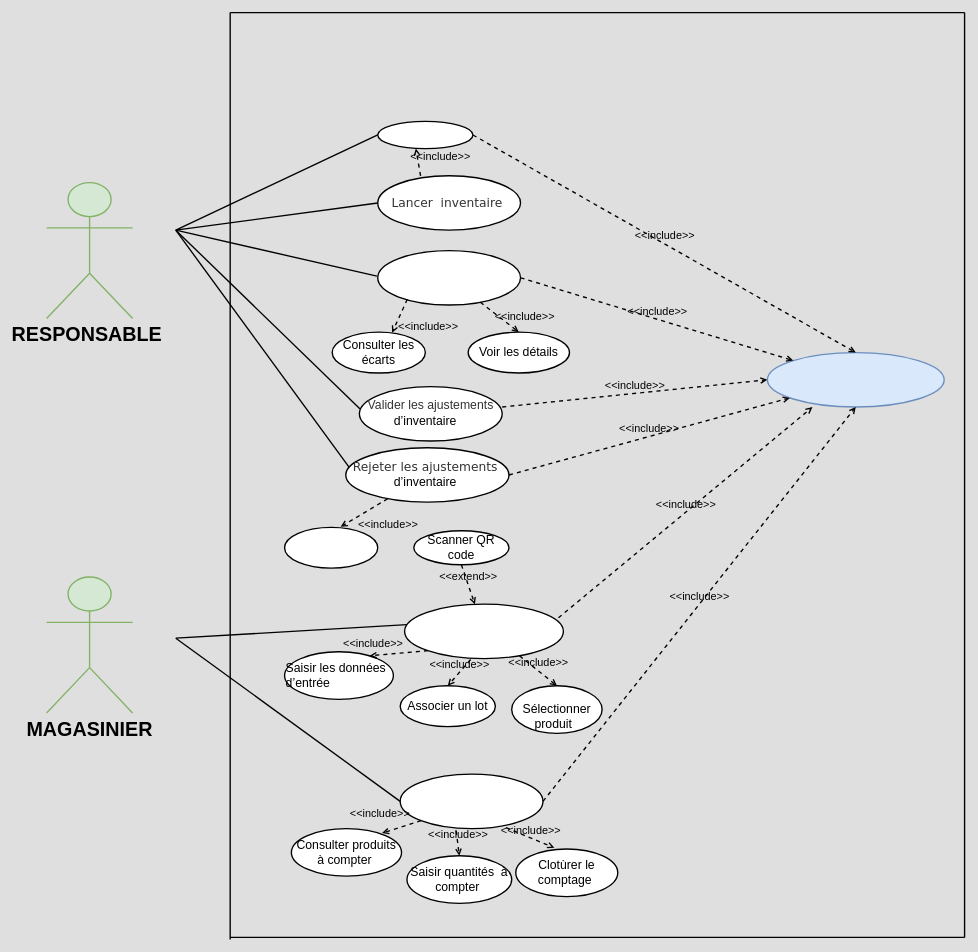
Some shapes in this 978 by 952 pixel diagram are drawn without their labels. The centre of each missing label's shape, as x and y in pixels:
Analyser les écarts d’inventaire: (449,277)
Choisir typre d'inventaire: (425,134)
Demander un recomptage: (331,547)
Gérer les entrées de stock: (484,631)
Réaliser inventaire: (471,801)
S'authentifier: (855,379)
